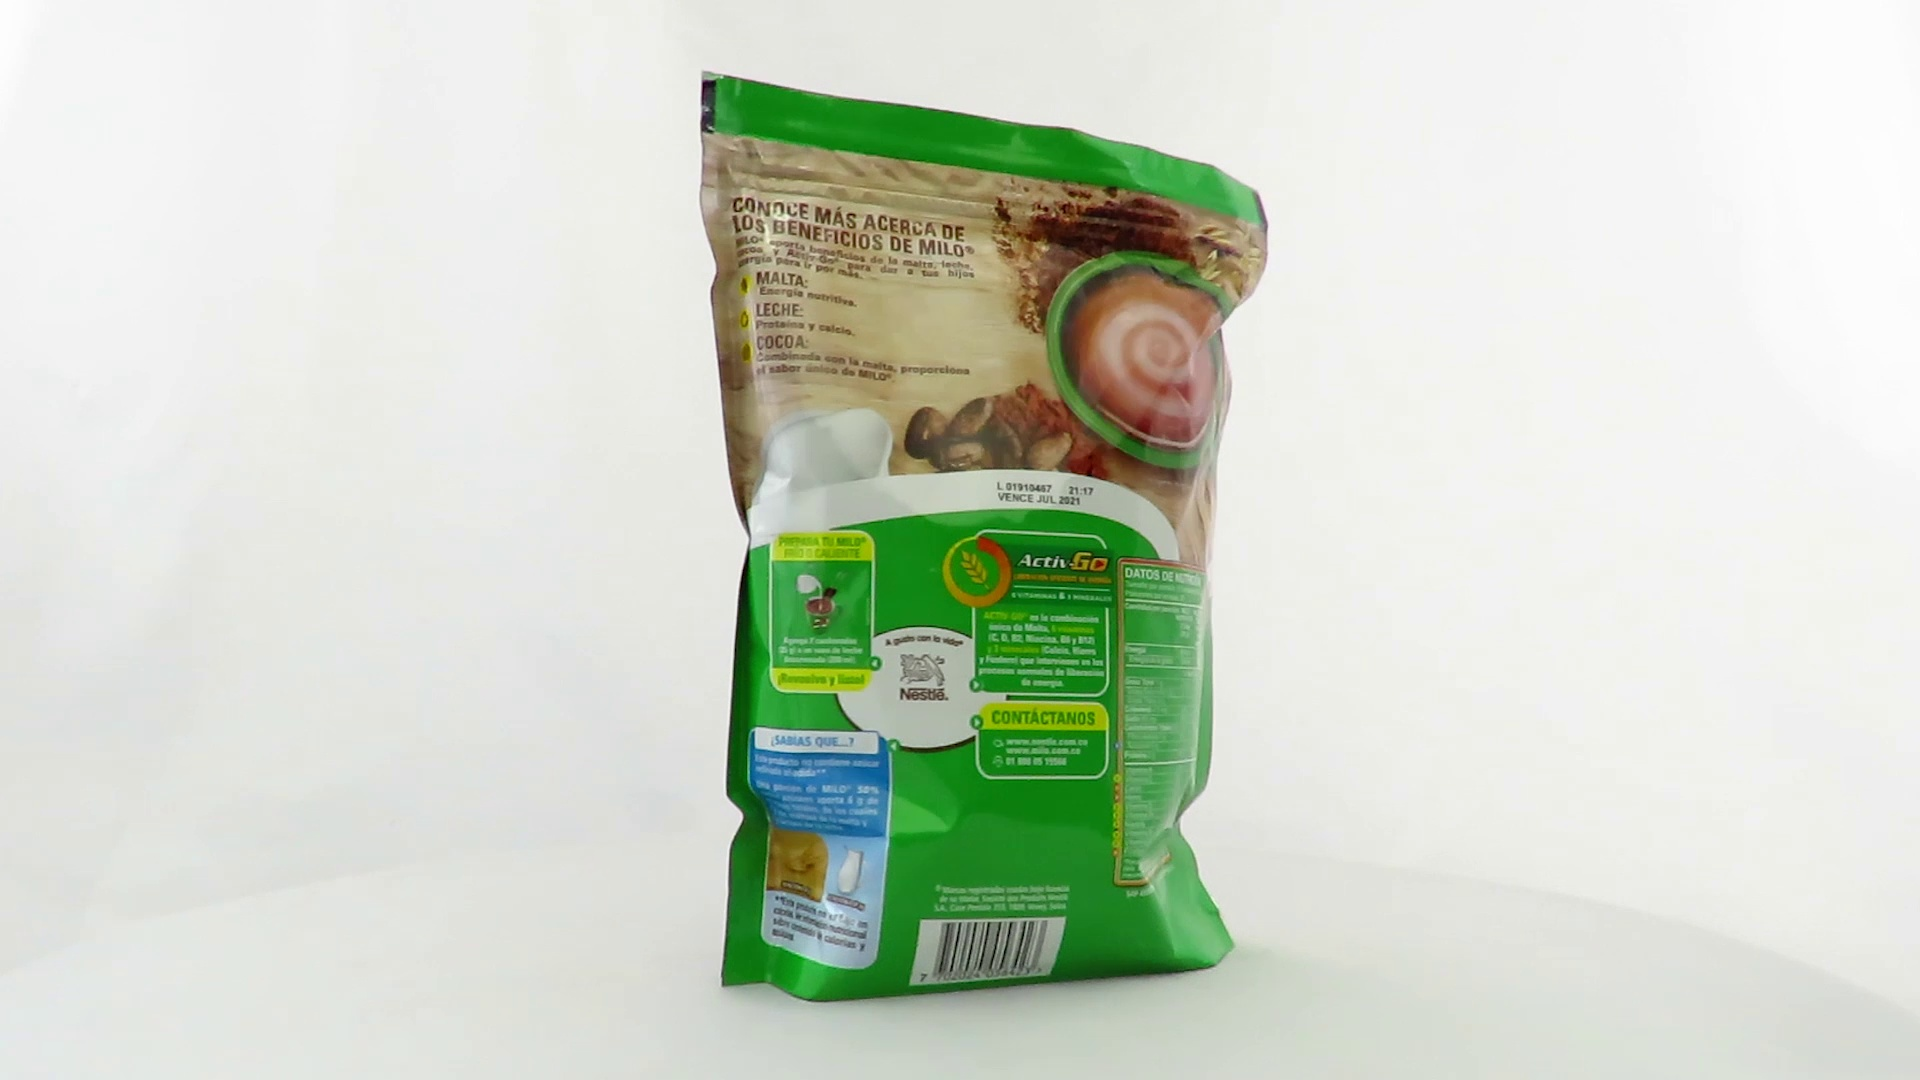COL0170205DYP50000: (694, 66, 1274, 1009)
